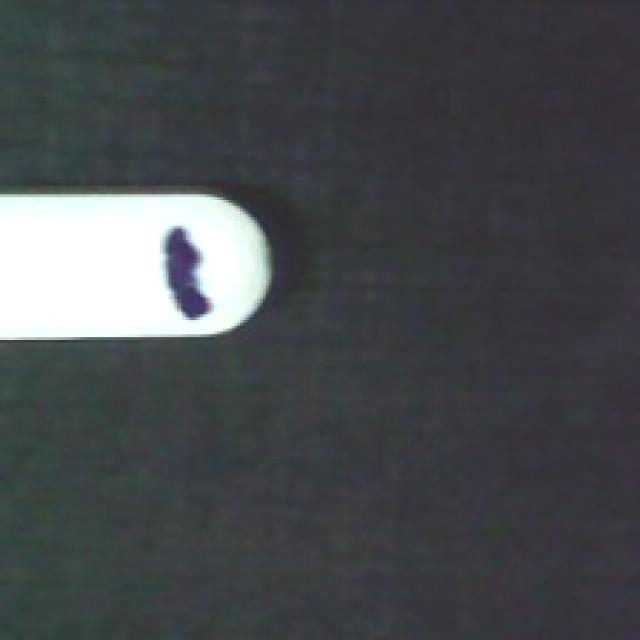defected: (0, 180, 283, 343)
